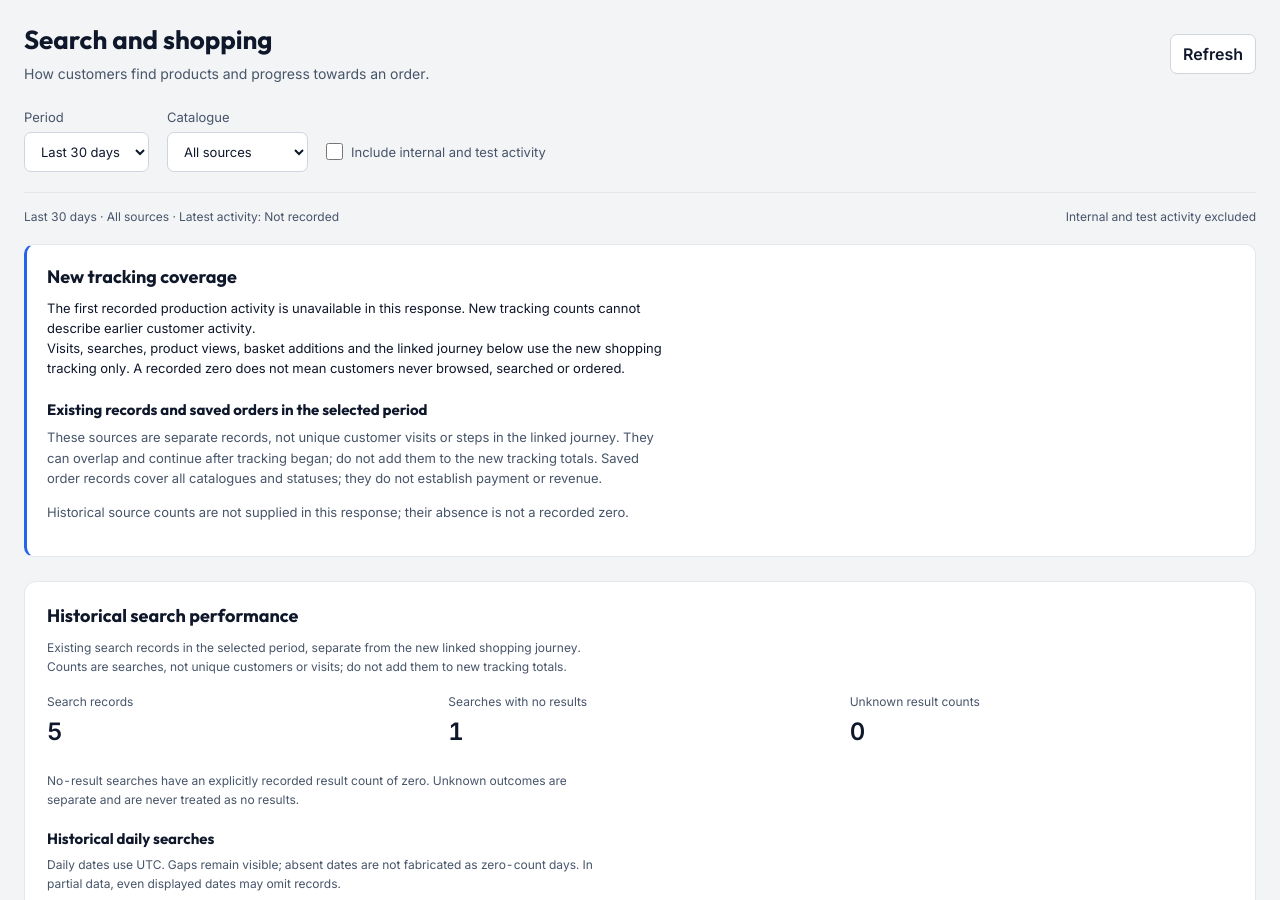
Scenario: shopping analytics UI › uses explicitly labelled popular-term fallback only when independent historical failures are absent
The width and height of the screenshot is (1280, 900).
Expected: the text "paint" is not shown
What coordinates should you click on to do the following:
click the button "Refresh"
I would click on:
 (1213, 54)
Its box is [1170, 34, 1256, 74].
(page scrolled)
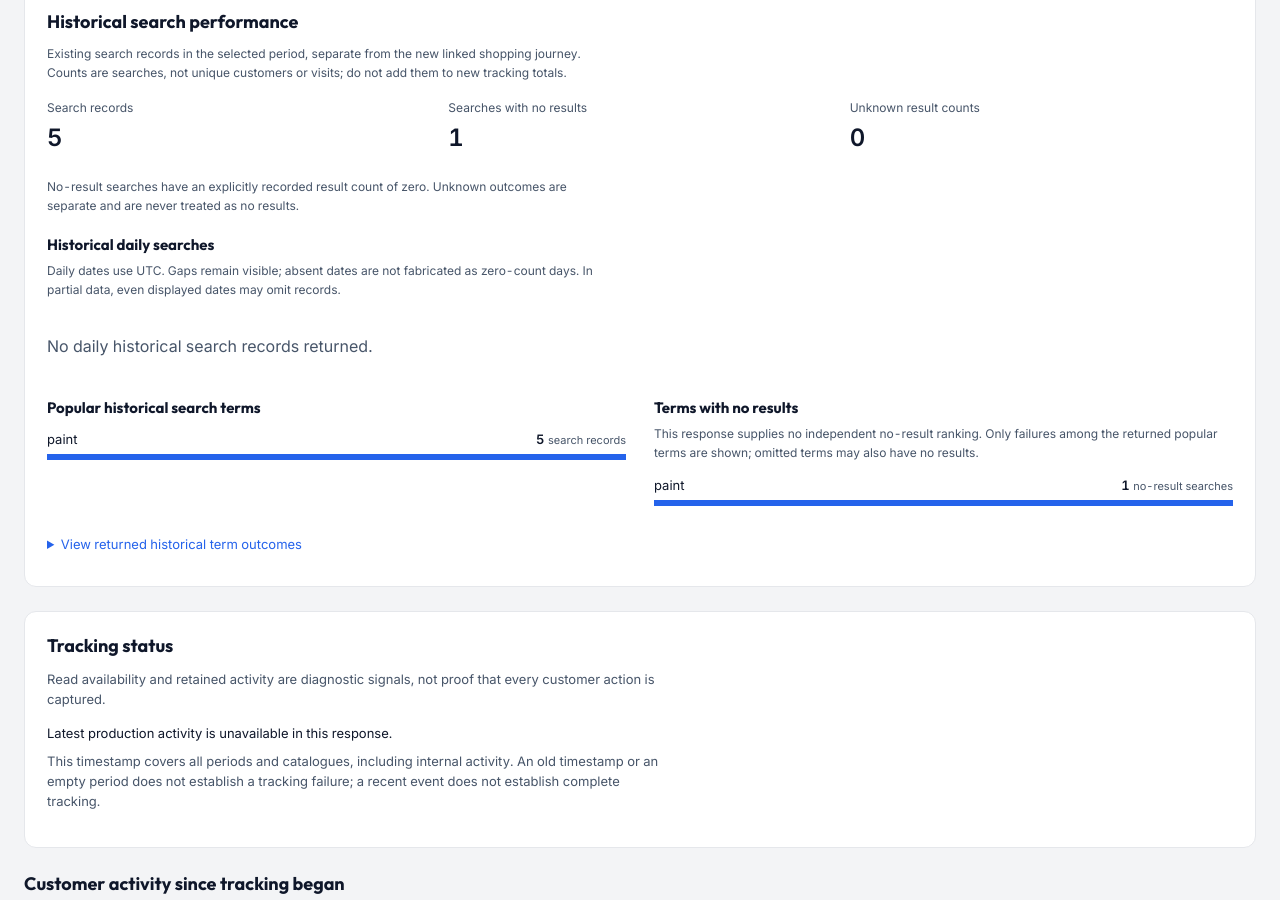
Expected: the element that starts with "Terms with no results" shows "paint", [654, 476, 684, 492]
Expected: the element that starts with "Terms with no results" shows "no independent no-result ranking", [654, 426, 1217, 460]
Expected: the element that starts with "Terms with no results" shows "Only failures among the returned popular terms", [654, 426, 1217, 460]
